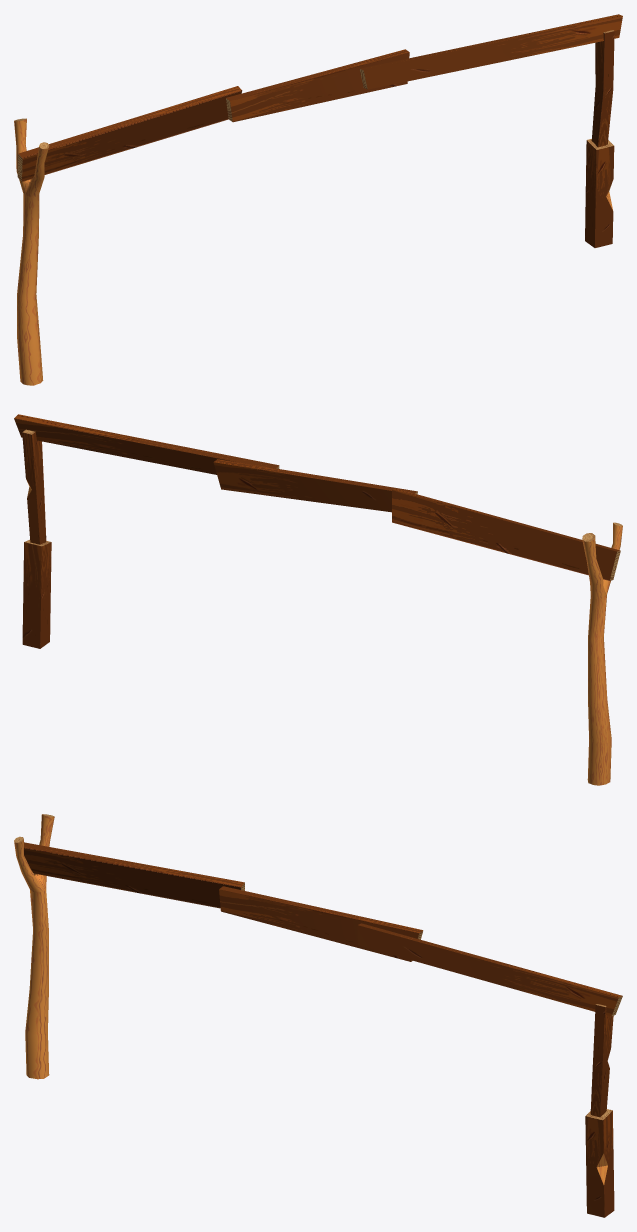
File: Arco Potrero.fbx
The picture shows the model from 3 angles, top to bottom: view 1: azimuth 30°, elevation 25°; view 2: azimuth 150°, elevation 25°; view 3: azimuth 330°, elevation 25°; orthographic projection.
Visible parts, largest first — view 1: Arco Potrero; view 2: Arco Potrero; view 3: Arco Potrero.
Part boxes in pixels (x1,y1,x2,y2): Arco Potrero: (14, 14, 622, 385); Arco Potrero: (14, 414, 622, 785); Arco Potrero: (14, 814, 622, 1217).
Bounding box in the file's own units: 705 × 285 × 65.38.
1 material, 1 textured.
